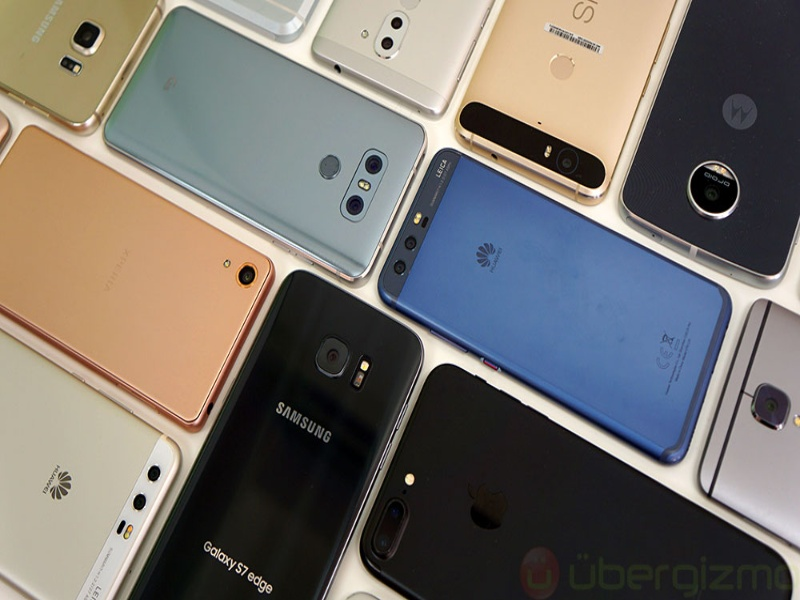mobile: (171, 5, 433, 303)
